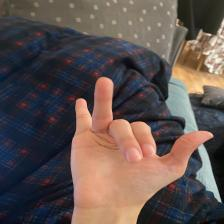five: (68, 78, 214, 201)
